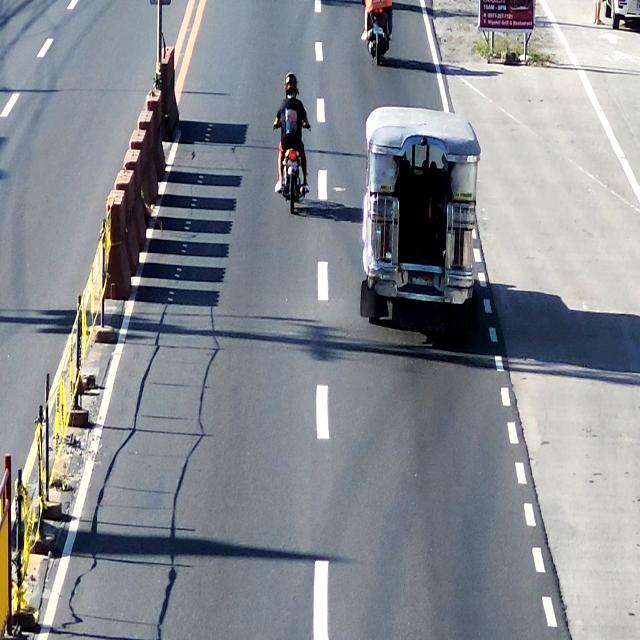Jeep: (361, 105, 477, 335)
Motorcycle: (274, 77, 311, 211), (365, 0, 393, 63)
